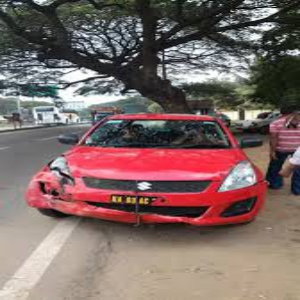bumper: (22, 183, 92, 218)
